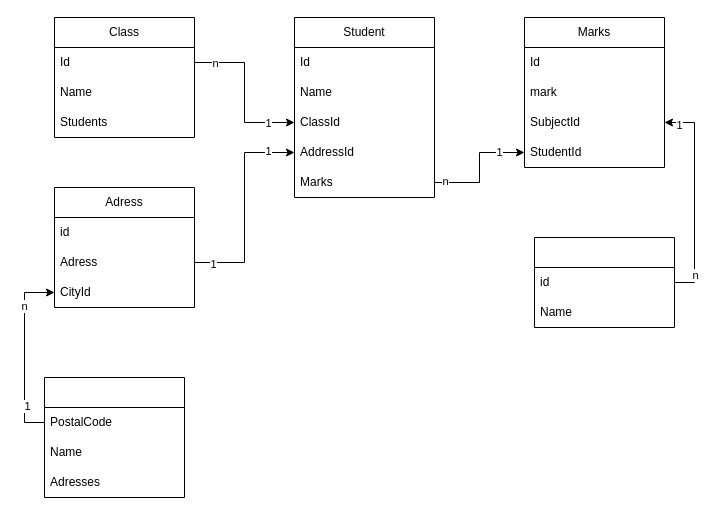
Image size: 720x515. Some labels were removed from this diagram. The box of each missing label's shape, as (x1, y1, x2, y2) in pixels:
City: (44, 376, 184, 498)
subject: (534, 236, 674, 328)
